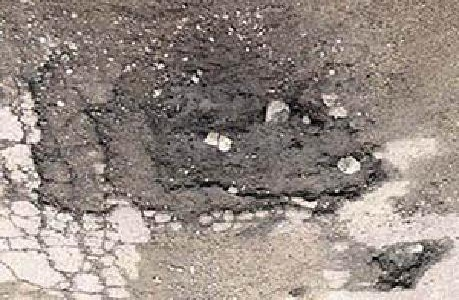pothole: (92, 24, 389, 223), (366, 238, 448, 293)
